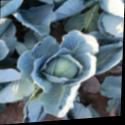cabbage: (45, 54, 84, 83)
